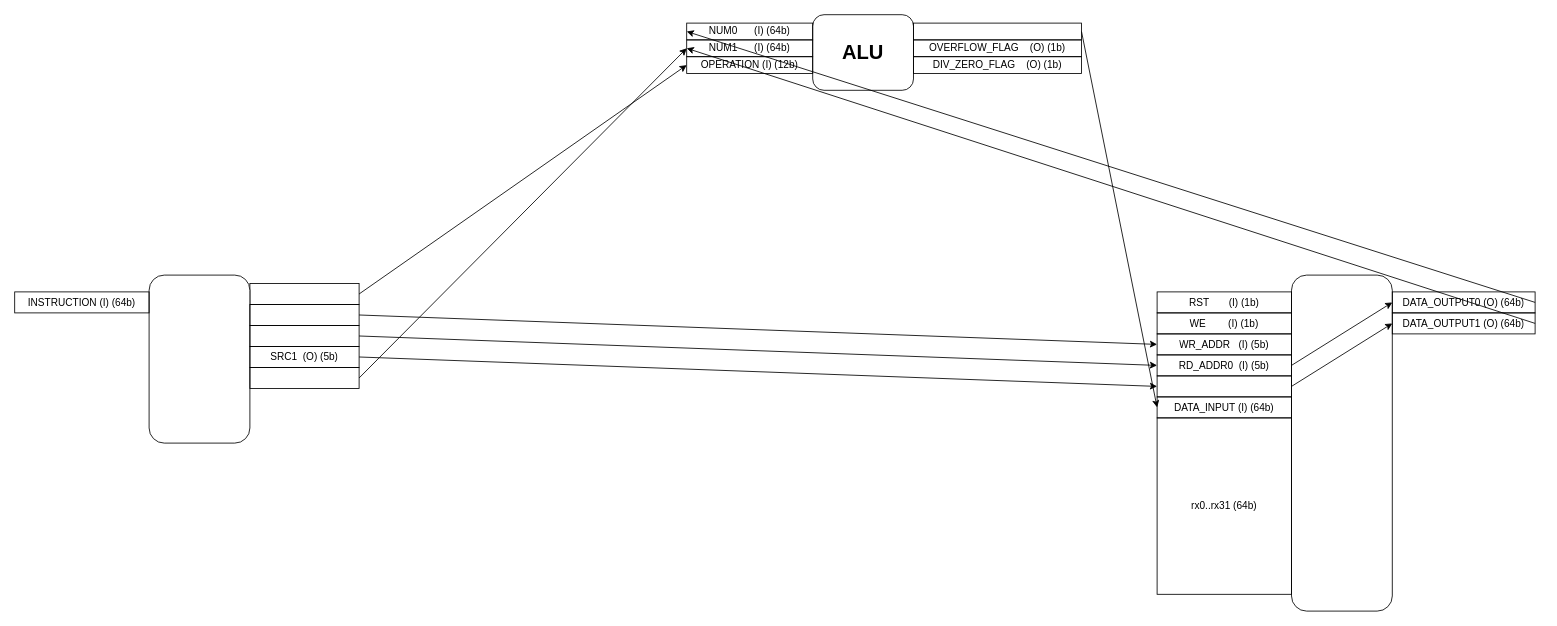
Image size: 1557x626. Some labels were removed from this diagram. The shapes that lost their labels are listed below. From the top down, each one's centre as x and y in pixels, then its label:
point (997, 31): RESULT (O) (64b)
point (304, 293): OPCODE (O) (12b)
point (304, 315): DST (O) (5b)
point (304, 335): SRC0 (O) (5b)
point (199, 358): DCD
point (304, 377): IMM (O) (37b)
point (1224, 386): RD_ADDR1 (I) (5b)
point (1341, 442): RF
